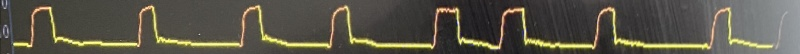normal_pressure: (8, 0, 795, 54)
